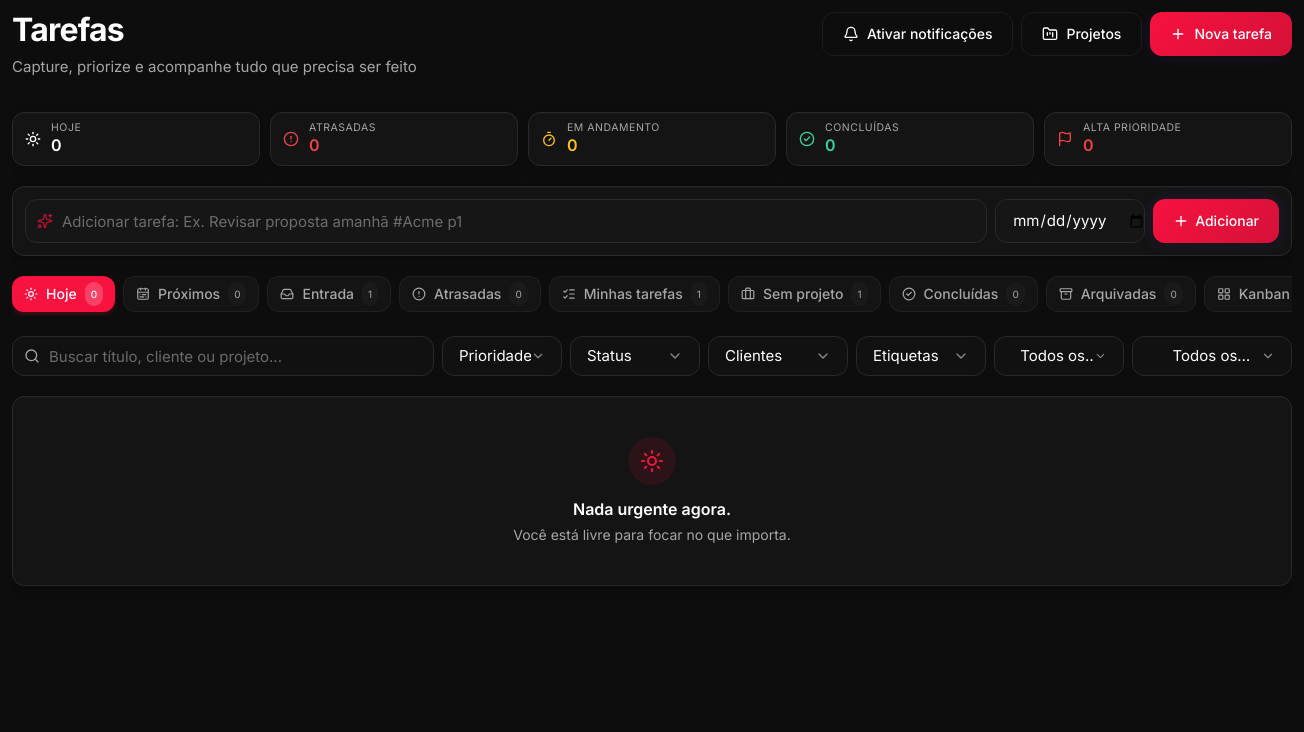
it: Tarefas · B4 — leitura via useBifurcatedTasks (etapa-5-flip-tarefas-pacote.md §7) › tarefa só-nuvem (useBifurcatedTasks, ausente de useTasks local) aparece na visão 'Minhas tarefas'
What coordinates should you click on to do the following:
click the button "Minhas tarefas 1"
I would click on:
 (634, 294)
Its box is [549,276,720,312].
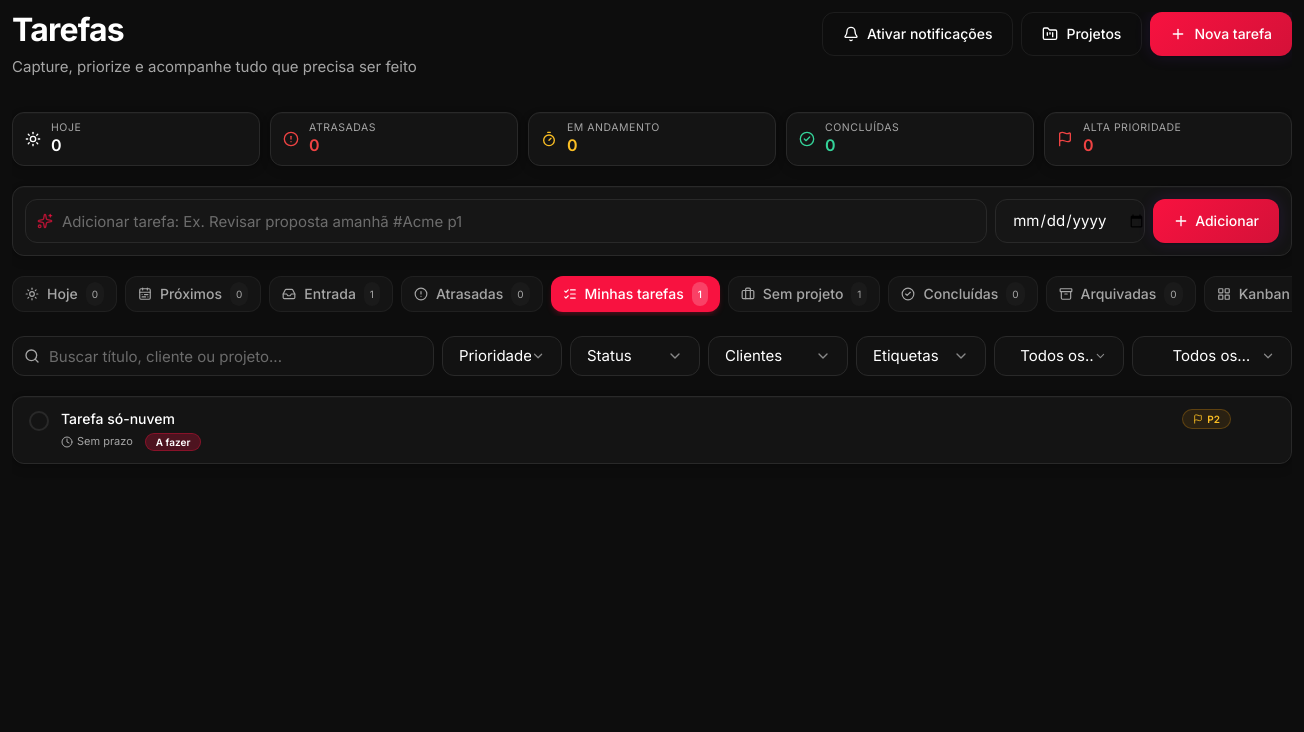
Check: the text "Tarefa só-nuvem" is shown, box [61,409,175,428]
